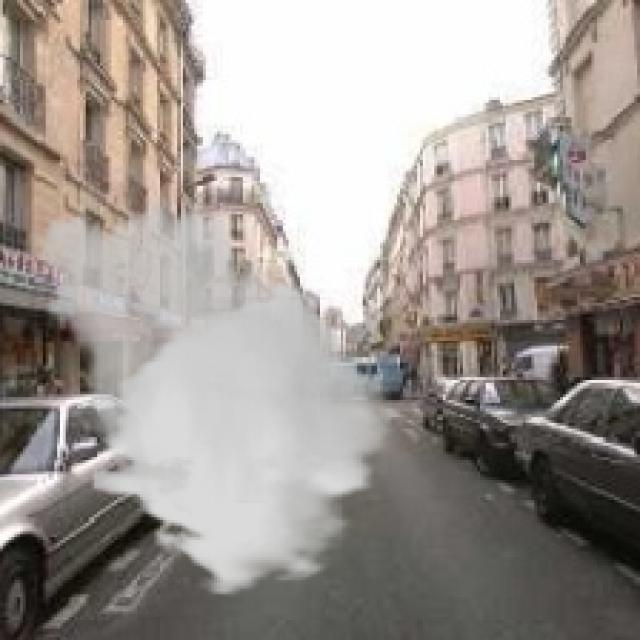smoke: (23, 189, 391, 597)
